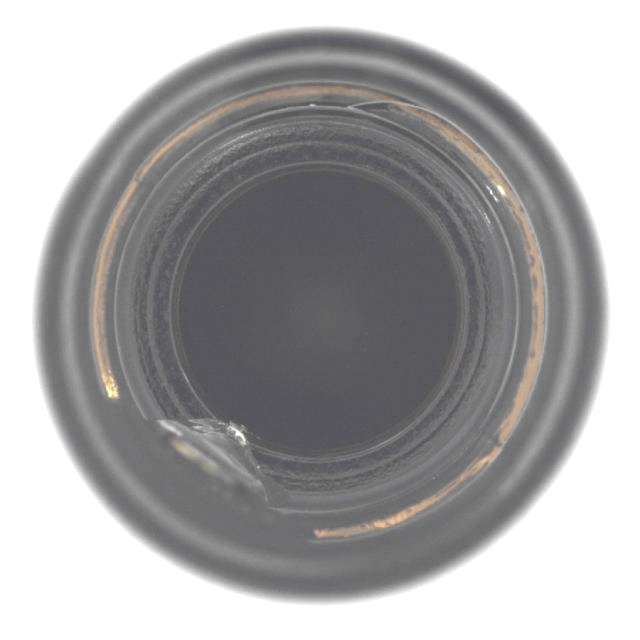bad-broken_small: (31, 27, 610, 607)
